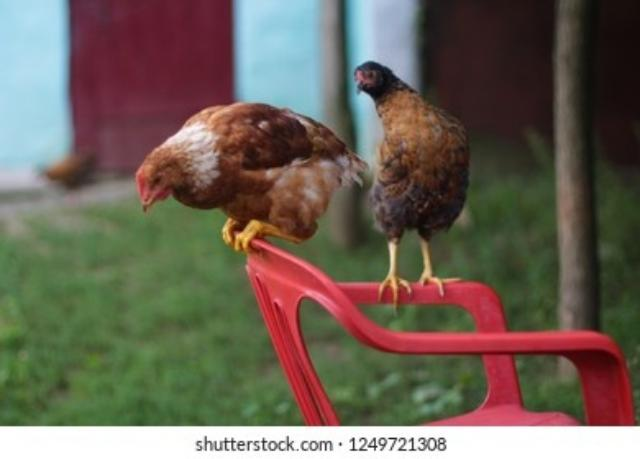Chicken: (133, 100, 370, 256), (352, 59, 471, 310)
